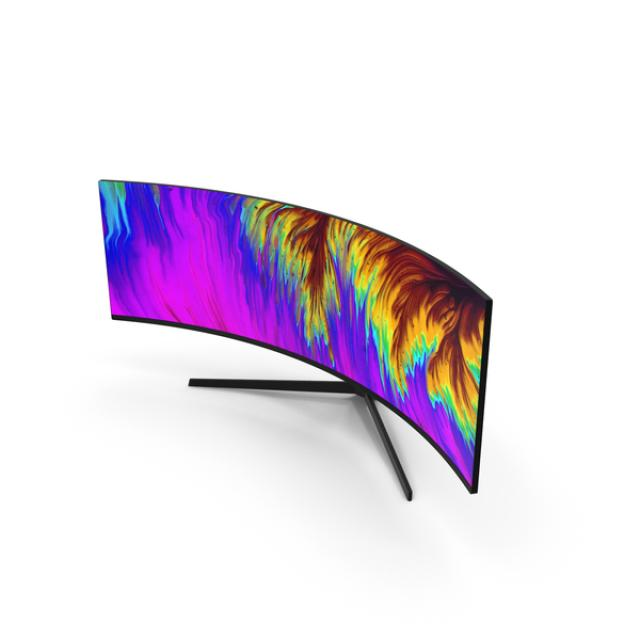monitor: (99, 181, 493, 500)
